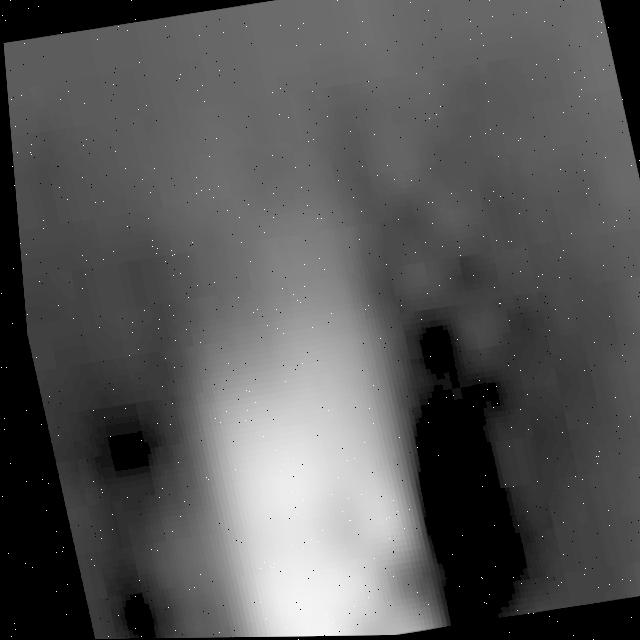person: (132, 222, 463, 640)
